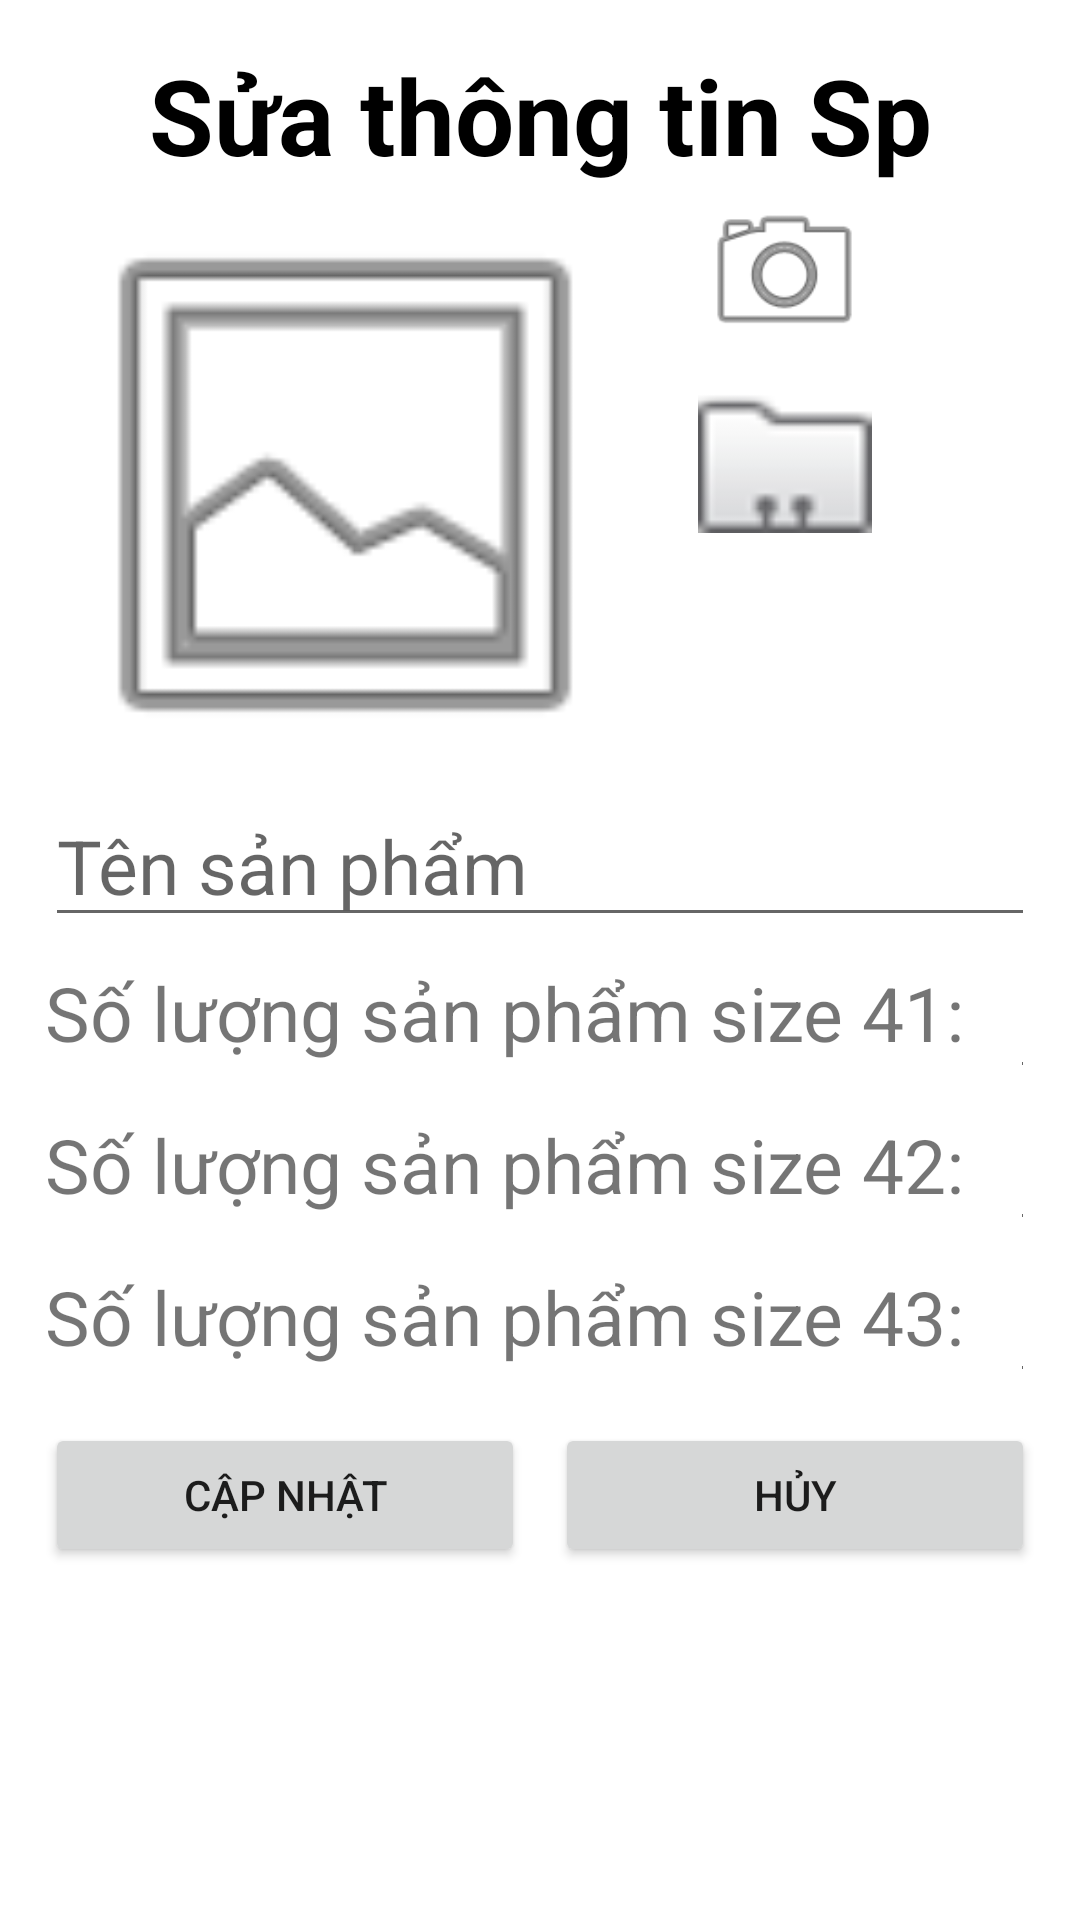

Where to tap for icons on this 1080*1920 app screen, as point (x, y):
camera: point (784, 269)
